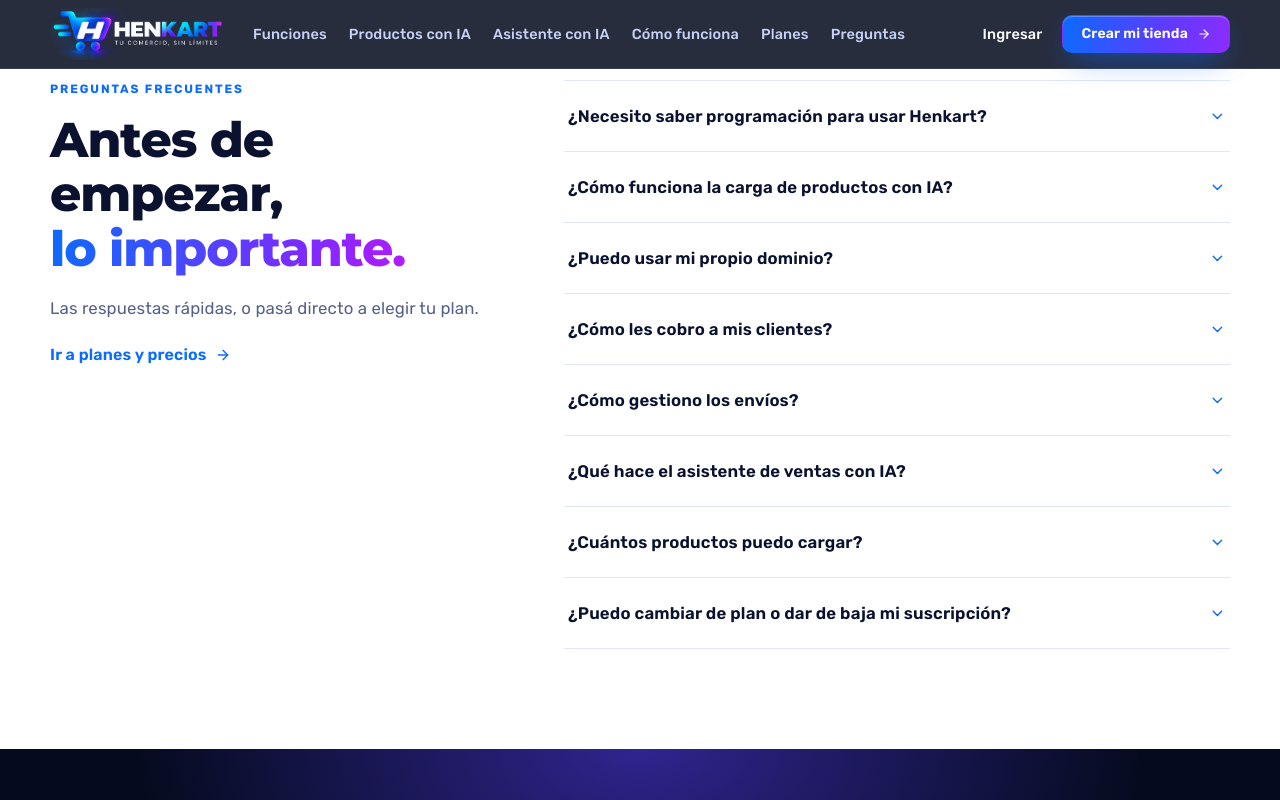
it: PlatformLanding · preguntas frecuentes › lista las preguntas y cada una abre su respuesta
This screenshot has width=1280, height=800.
(page scrolled)
What coordinates should you click on to do the following:
click the heading "¿Cómo gestiono los envíos?"
I would click on:
 (683, 400)
Its box is [568, 390, 1226, 410].
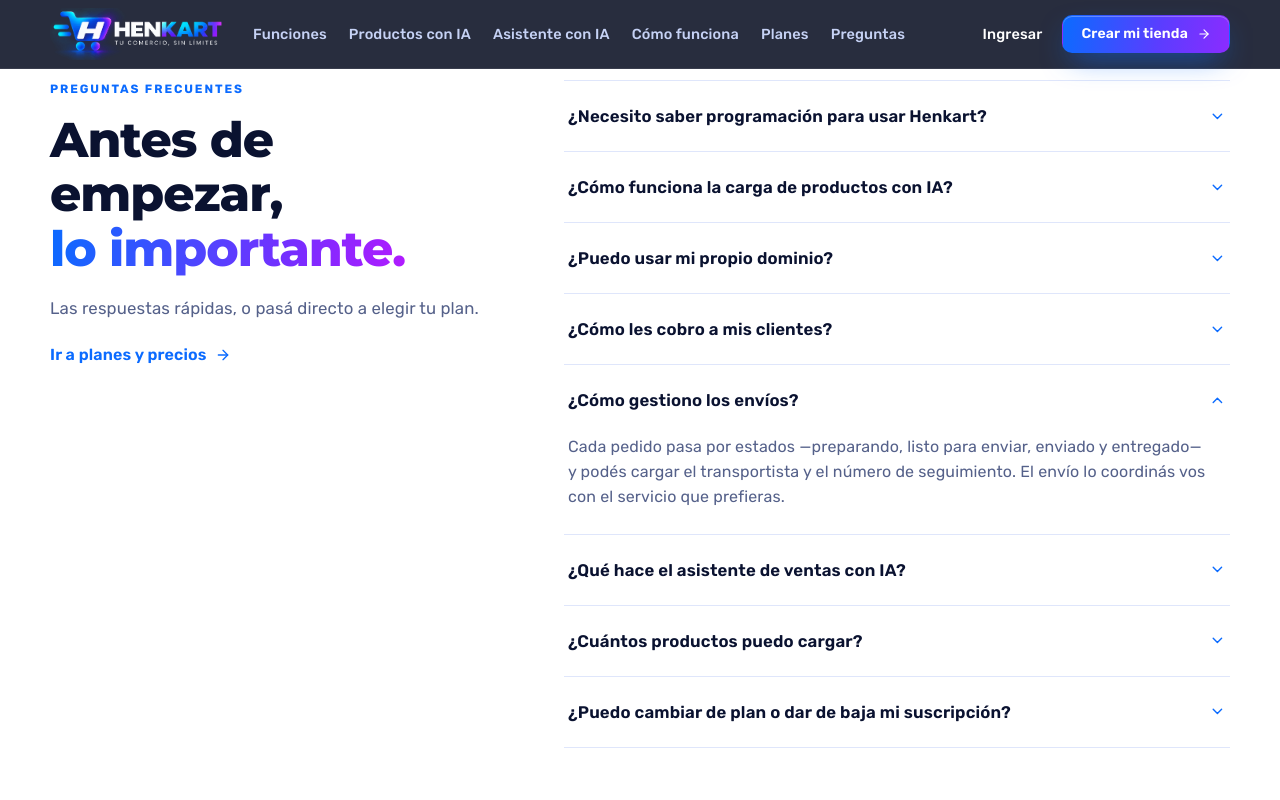
expect the text "lo coordinás vos con el servicio que prefieras" is shown: met, box [568, 437, 1205, 506]
